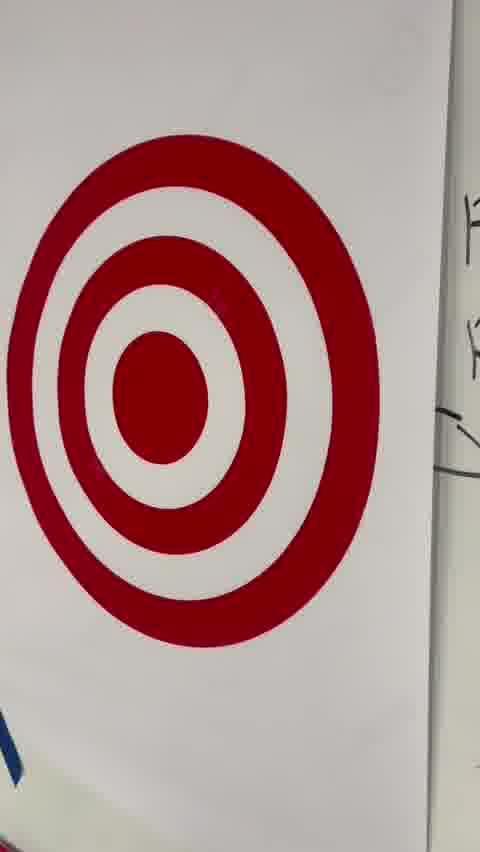target_red: (7, 133, 381, 646)
